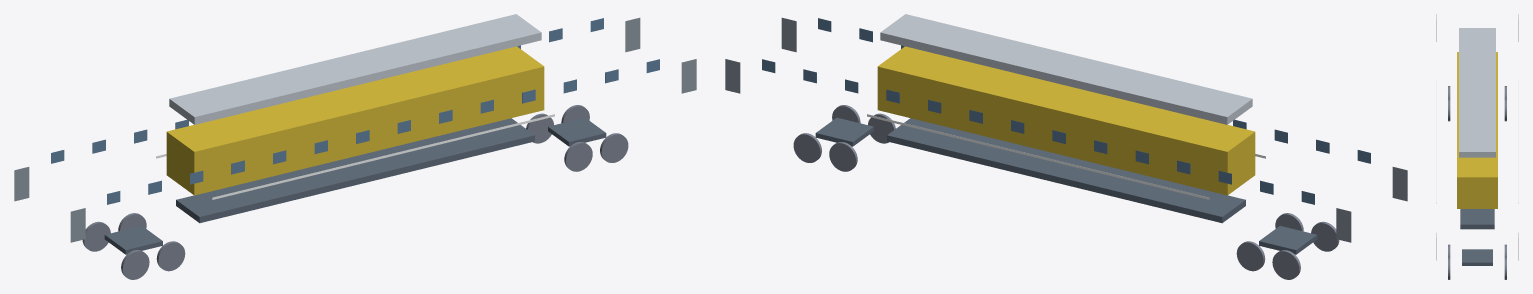
The model's file is LHB_ChairCar.glb.
3 renders of one model, left to right at view 1: azimuth 30°, elevation 25°; view 2: azimuth 150°, elevation 25°; view 3: azimuth 270°, elevation 25°, orthographic. The views are drawn at different scales.
Visible parts, largest first — view 1: LHB_ChairCar; view 2: LHB_ChairCar; view 3: LHB_ChairCar.
Part boxes in pixels (x1,y1,x2,y2): LHB_ChairCar: (14,14,696,279); LHB_ChairCar: (725,14,1407,279); LHB_ChairCar: (1436,14,1518,279).
Size of the model in its own units: 21.04 by 4.53 by 3.29.
